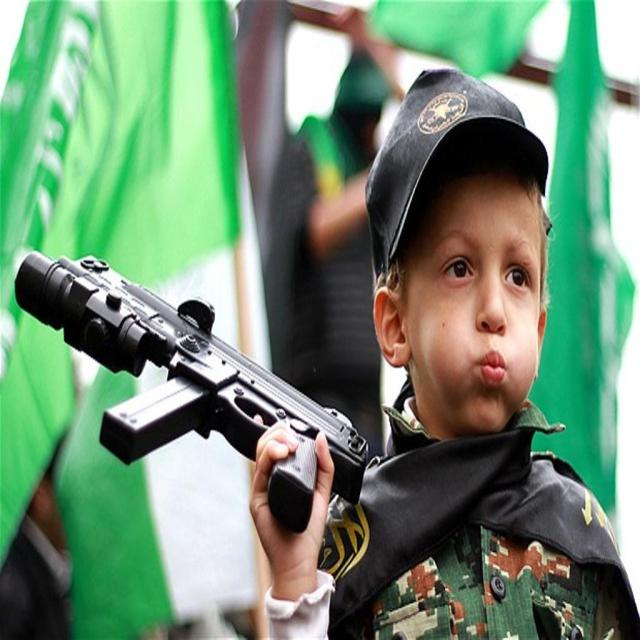Face: (408, 177, 542, 436)
